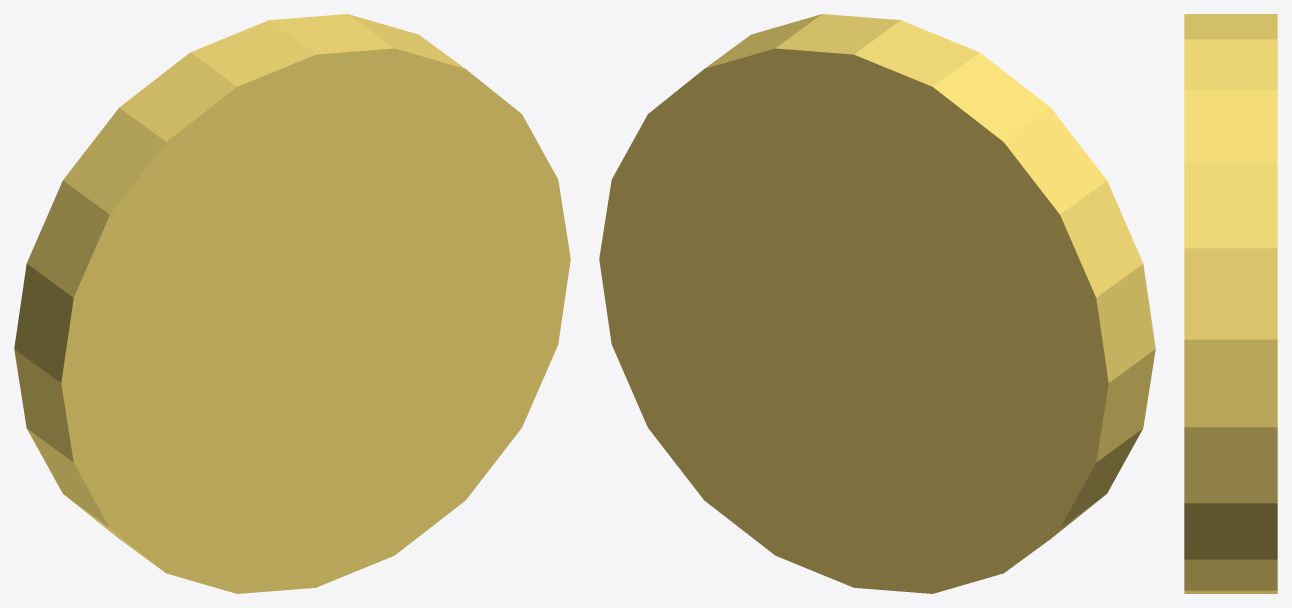
Rendered from coin.glb.
3 renders of one model, left to right at view 1: azimuth 30°, elevation 25°; view 2: azimuth 150°, elevation 25°; view 3: azimuth 270°, elevation 25°, orthographic.
Bounding box in the file's own units: 1 × 1 × 0.16.
